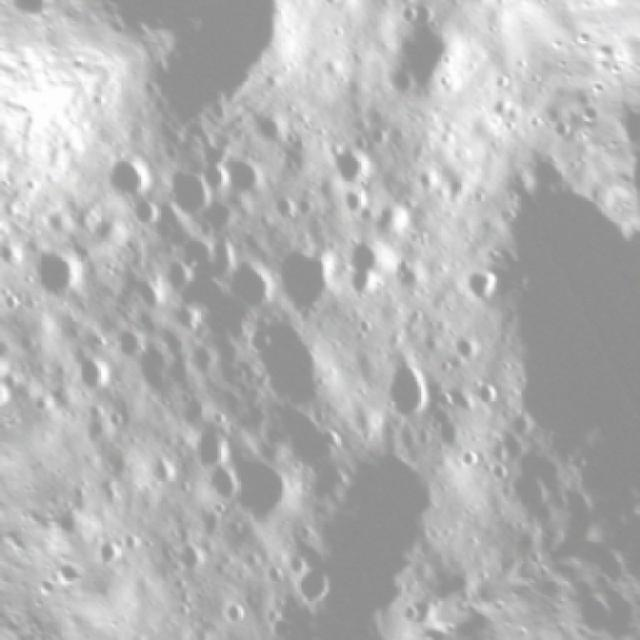crater: (130, 0, 322, 134), (228, 295, 346, 420), (362, 0, 482, 105), (211, 429, 307, 534), (252, 220, 353, 318), (262, 382, 348, 482), (364, 343, 448, 434), (11, 226, 97, 314), (327, 226, 411, 309), (113, 323, 192, 411), (212, 240, 288, 315), (91, 142, 162, 209), (53, 334, 119, 406), (155, 157, 220, 226), (172, 412, 239, 478), (212, 140, 276, 206), (321, 128, 382, 189), (285, 554, 343, 614), (452, 254, 511, 312), (157, 524, 215, 582), (117, 183, 174, 242), (439, 316, 493, 372), (124, 263, 174, 319), (326, 174, 379, 226), (150, 248, 198, 304), (461, 366, 512, 416), (448, 435, 492, 480), (212, 592, 254, 634)
